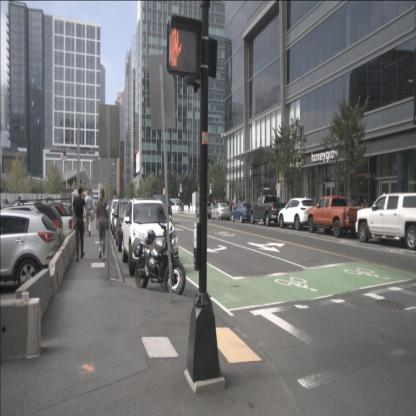human-pedestrian-adult: (72, 187, 87, 262), (96, 188, 108, 261), (84, 190, 93, 236), (232, 198, 236, 216), (226, 198, 230, 214), (178, 199, 182, 212), (230, 198, 233, 214), (188, 199, 190, 211)
movable_object-barrier: (189, 205, 193, 212), (192, 205, 196, 212), (171, 206, 176, 211), (176, 206, 181, 211), (186, 205, 189, 211), (184, 205, 186, 211)
vehicle-car: (0, 209, 58, 296), (0, 203, 66, 270), (122, 198, 178, 276), (114, 200, 152, 252), (278, 197, 318, 231), (111, 204, 139, 238), (108, 198, 132, 232), (151, 194, 172, 224), (230, 202, 254, 223), (195, 201, 213, 219), (211, 203, 230, 220)
vehicle-motorcycle: (131, 206, 186, 298)
vehicle-truck: (355, 192, 416, 251), (307, 196, 366, 238), (249, 195, 288, 226)
